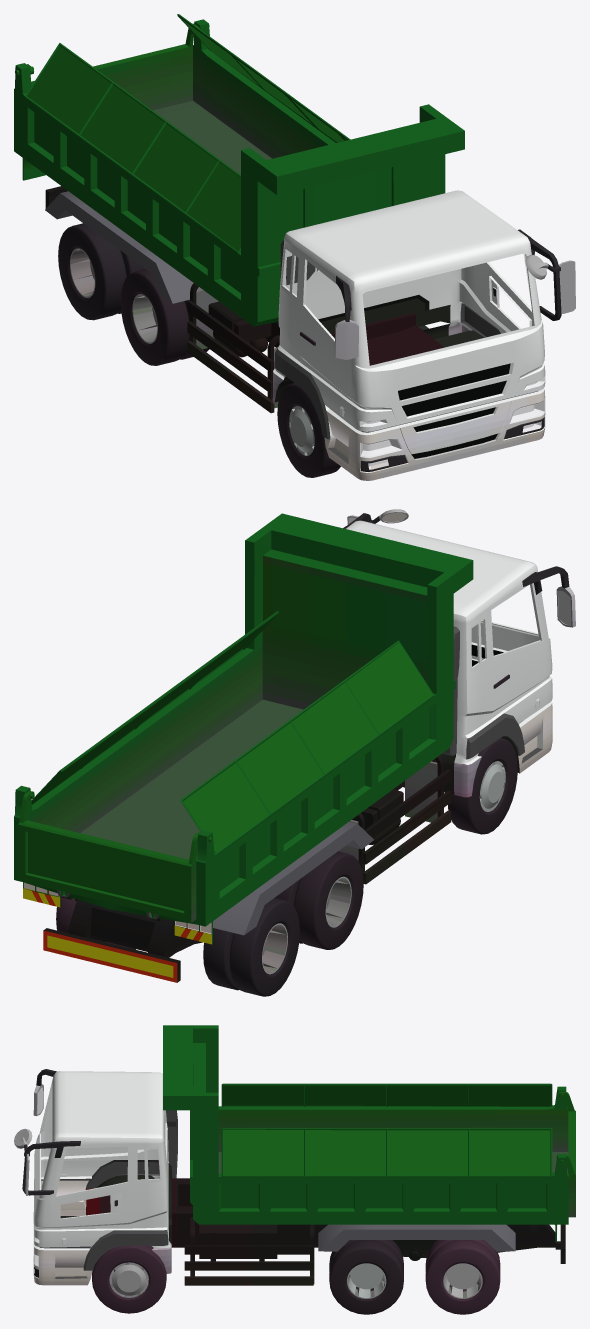
Rendered from dump.glb.
3 renders of one model, top to bottom at view 1: azimuth 30°, elevation 25°; view 2: azimuth 150°, elevation 25°; view 3: azimuth 270°, elevation 25°, orthographic. The views are drawn at different scales.
Parts seen in each view (by area): view 1: Cabin_4, Dump Box_7, Boards_5, Platform_8, Wheel R-2-r_14, Wheel R-1-r_12, Door_6, Wheel F-r_10; view 2: Dump Box_7, Boards_5, Cabin_4, Platform_8, Door_6, Wheel R-2-r_14, Wheel R-1-r_12, Wheel F-r_10, Cabin.001_1; view 3: Dump Box_7, Cabin_4, Boards_5, Platform_8, Wheel R-2-L_13, Wheel R-1-L_11, Wheel F-l_9, Door_6, Cabin.001_1.
Part boxes in pixels (x1,y1,x2,y2): Cabin_4: (272, 190, 575, 480); Dump Box_7: (14, 19, 464, 326); Boards_5: (24, 14, 350, 254); Platform_8: (45, 186, 444, 413); Wheel R-2-r_14: (58, 223, 145, 320); Wheel R-1-r_12: (120, 269, 209, 365); Door_6: (15, 23, 209, 110); Wheel F-r_10: (277, 383, 340, 477); Dump Box_7: (14, 513, 473, 944); Boards_5: (31, 611, 434, 855); Cabin_4: (343, 509, 575, 797); Platform_8: (43, 755, 451, 982); Door_6: (15, 791, 213, 922); Wheel R-2-r_14: (203, 898, 299, 996); Wheel R-1-r_12: (275, 851, 363, 949); Wheel F-r_10: (448, 738, 517, 834); Cabin.001_1: (442, 626, 459, 755); Dump Box_7: (163, 1025, 568, 1251); Cabin_4: (14, 1069, 171, 1285); Boards_5: (221, 1083, 552, 1177); Platform_8: (86, 1178, 565, 1285); Wheel R-2-L_13: (425, 1240, 500, 1314); Wheel R-1-L_11: (329, 1240, 403, 1314); Wheel F-l_9: (92, 1245, 166, 1313); Door_6: (556, 1091, 575, 1217); Cabin.001_1: (166, 1110, 177, 1178).
Bounding box in the file's own units: 3.13 × 3.66 × 8.54.
Materials: 2 (2 with a texture image).
